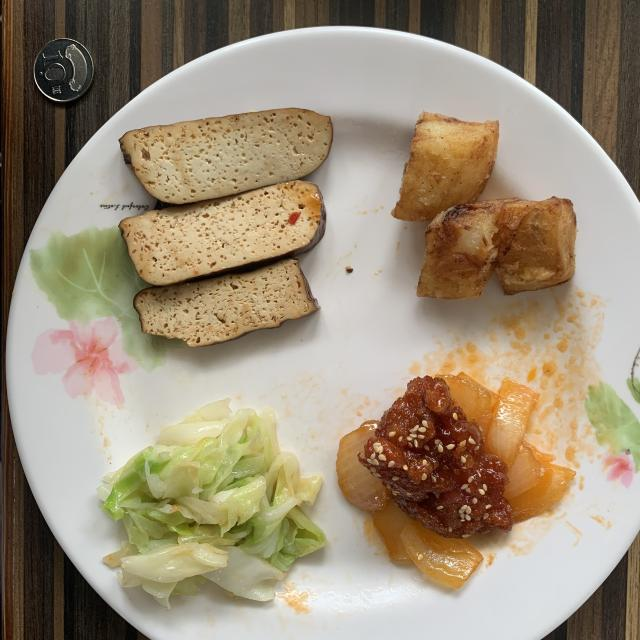cabbage: (98, 399, 325, 608)
coin: (34, 39, 94, 102)
firm tofu: (120, 109, 332, 346)
fried potato: (392, 112, 576, 299)
